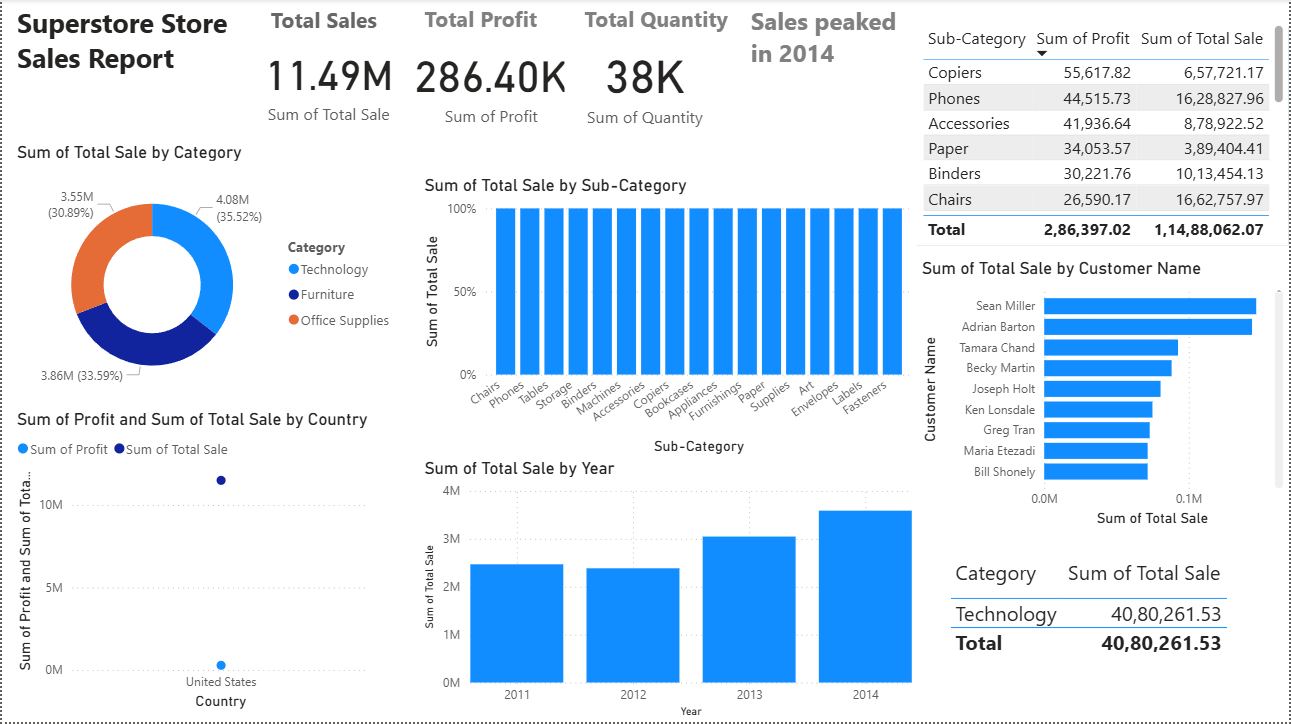

This screenshot's page, from the dashboard's own definition file:
{"tool":"powerbi","page":{"name":"Page 1","canvas":[1280,720],"ordinal":0},"visuals":[{"type":"shape","box":[910.6,27.4,369.5,217.7],"z":1000},{"type":"textbox","box":[10,0,241.3,89.6],"z":2000},{"type":"card","fields":{"Values":["Orders.Total Sale"]},"box":[251.3,33.6,148,99.5],"z":3000},{"type":"textbox","box":[262.5,1.2,153,43.5],"z":4000},{"type":"textbox","box":[415.5,0,145.5,43.5],"z":5000},{"type":"card","fields":{"Values":["Orders.Profit"]},"box":[399.3,33.6,175.4,99.5],"z":6000},{"type":"card","fields":{"Values":["Orders.Quantity"]},"box":[559.8,33.6,160.5,99.5],"z":7000},{"type":"textbox","box":[574.7,0,165.4,42.3],"z":8000},{"type":"donutChart","fields":{"Category":["Orders.Category"],"Y":["Orders.Total Sale"]},"box":[10,141.8,389.4,266.2],"z":9000},{"type":"hundredPercentStackedColumnChart","fields":{"Category":["Orders.Sub-Category"],"Y":["Orders.Total Sale"]},"box":[415.5,175.4,495.1,282.4],"z":10000},{"type":"lineChart","fields":{"Y":["Orders.Profit","Orders.Total Sale"],"Category":["Orders.Country"]},"box":[10,408,360.7,303.5],"z":11000},{"type":"tableEx","fields":{"Values":["Orders.Sub-Category","Orders.Profit","Orders.Total Sale"]},"box":[910.6,21.1,369.5,223.9],"z":12000},{"type":"columnChart","fields":{"Category":["Orders.Order Date.Variation.Date Hierarchy.Year"],"Y":["Orders.Total Sale"]},"box":[415.5,456.5,495.1,263.7],"z":13000},{"type":"barChart","fields":{"Y":["Orders.Total Sale"],"Category":["Orders.Customer Name"]},"box":[910.6,257.5,369.5,272.4],"z":13001},{"type":"tableEx","fields":{"Values":["Orders.Category","Orders.Total Sale"]},"box":[937.9,549.8,342.1,133.1],"z":13003},{"type":"textbox","box":[740.2,0,170.4,100.8],"z":13004}]}

Visuals, with their boxes in screenshot pixels (x1, y1, x2, y2), scaled from the page's 1280x720 canvas onto the 1291x724 screenshot:
shape: (left=918, top=28, right=1290, bottom=246)
textbox: (left=10, top=0, right=253, bottom=90)
card - Orders.Total Sale: (left=253, top=34, right=403, bottom=134)
textbox: (left=265, top=1, right=419, bottom=45)
textbox: (left=419, top=0, right=566, bottom=44)
card - Orders.Profit: (left=403, top=34, right=580, bottom=134)
card - Orders.Quantity: (left=565, top=34, right=726, bottom=134)
textbox: (left=580, top=0, right=746, bottom=43)
donutChart - Orders.Category x Orders.Total Sale: (left=10, top=143, right=403, bottom=410)
hundredPercentStackedColumnChart - Orders.Sub-Category x Orders.Total Sale: (left=419, top=176, right=918, bottom=460)
lineChart - Orders.Profit x Orders.Total Sale: (left=10, top=410, right=374, bottom=715)
tableEx - Orders.Sub-Category x Orders.Profit: (left=918, top=21, right=1290, bottom=246)
columnChart - Orders.Order Date.Variation.Date Hierarchy.Year x Orders.Total Sale: (left=419, top=459, right=918, bottom=723)
barChart - Orders.Total Sale x Orders.Customer Name: (left=918, top=259, right=1290, bottom=533)
tableEx - Orders.Category x Orders.Total Sale: (left=946, top=553, right=1290, bottom=687)
textbox: (left=747, top=0, right=918, bottom=101)
